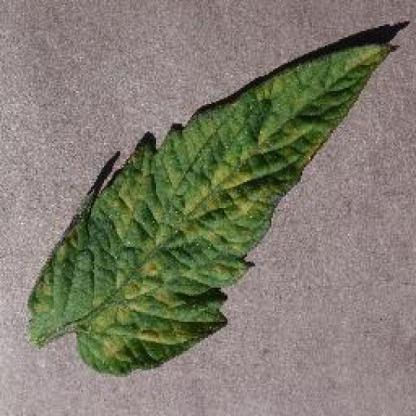Tomato_Leaf_Mold: (25, 42, 396, 374)
